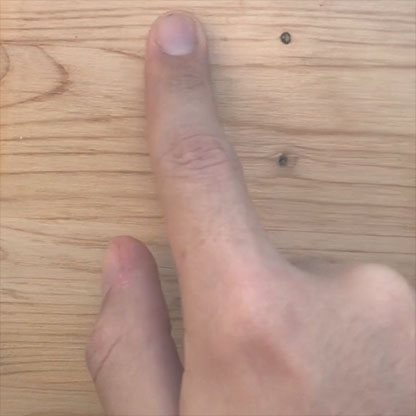fingertip: (147, 4, 216, 76)
